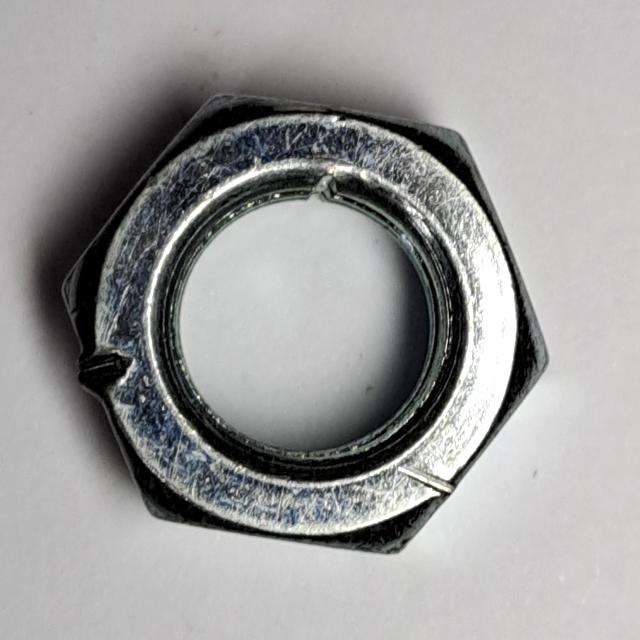Scratches: (47, 78, 564, 567)
